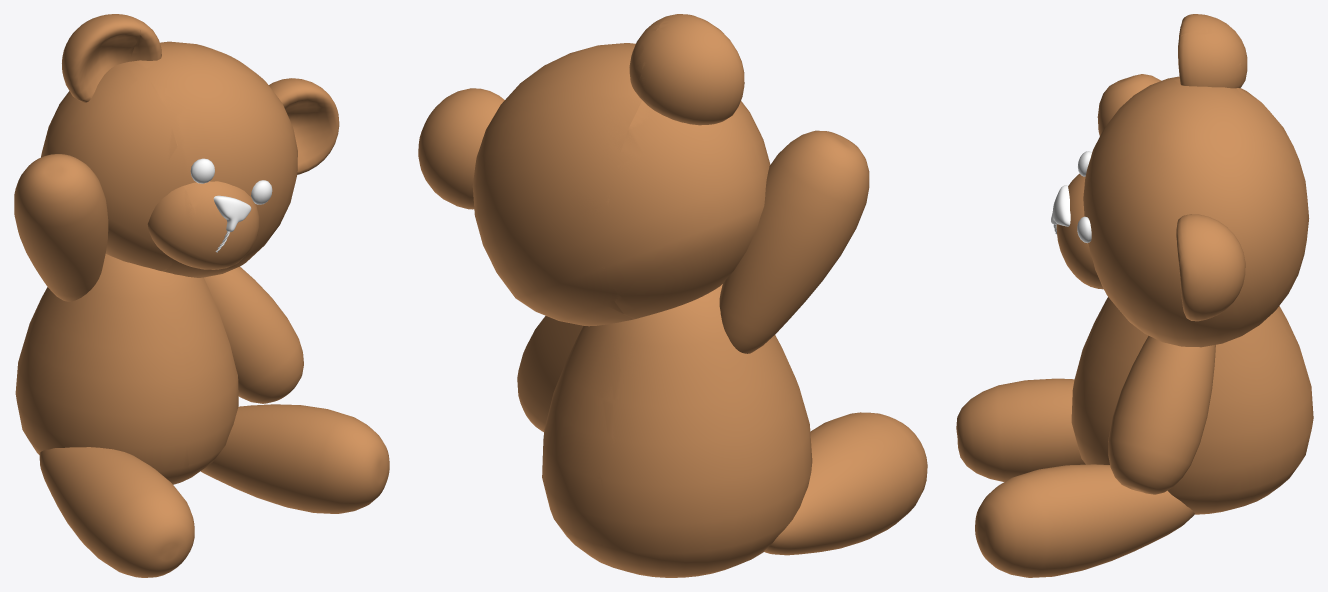
The model's file is bear.fbx.
The picture shows the model from 3 angles, left to right: view 1: azimuth 30°, elevation 25°; view 2: azimuth 150°, elevation 25°; view 3: azimuth 270°, elevation 25°; orthographic projection. The views are drawn at different scales.
Parts seen in each view (by area): view 1: bear, bear1, bear2; view 2: bear, bear1, bear2; view 3: bear, bear2, bear1.
Part boxes in pixels (x1,y1,x2,y2): bear: (14, 14, 389, 577); bear1: (14, 14, 194, 577); bear2: (127, 15, 388, 510); bear: (418, 14, 927, 577); bear1: (601, 14, 927, 577); bear2: (419, 15, 670, 559); bear: (956, 14, 1313, 577); bear2: (976, 32, 1310, 577); bear1: (956, 14, 1313, 477).
Bounding box in the file's own units: 2.42 × 3.22 × 2.13.
